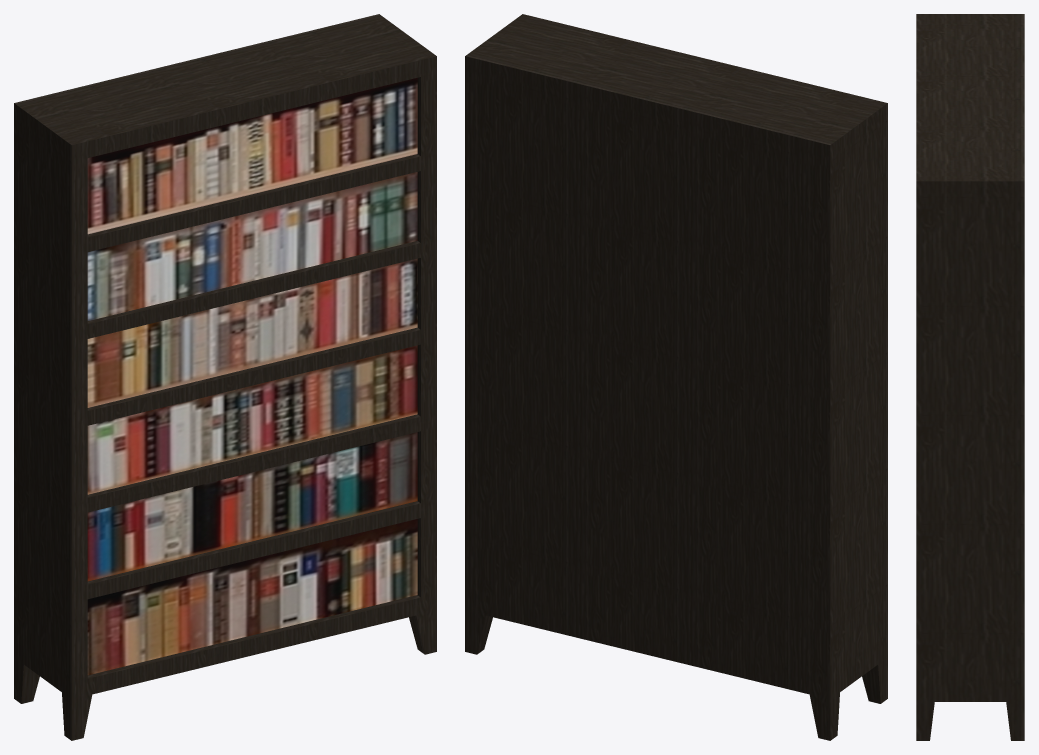
Rendered from regal_buecher.FBX.
The picture shows the model from 3 angles, left to right: view 1: azimuth 30°, elevation 25°; view 2: azimuth 150°, elevation 25°; view 3: azimuth 270°, elevation 25°; orthographic projection. The views are drawn at different scales.
Parts seen in each view (by area): view 1: buecher, regal; view 2: regal; view 3: regal.
Boxes of the visible parts, x1=… form: buecher: x1=87, y1=78, x2=417, y2=675; regal: x1=14, y1=14, x2=436, y2=740; regal: x1=465, y1=14, x2=887, y2=740; regal: x1=916, y1=14, x2=1024, y2=740.
Size of the model in its own units: 211 by 329 by 57.68.
